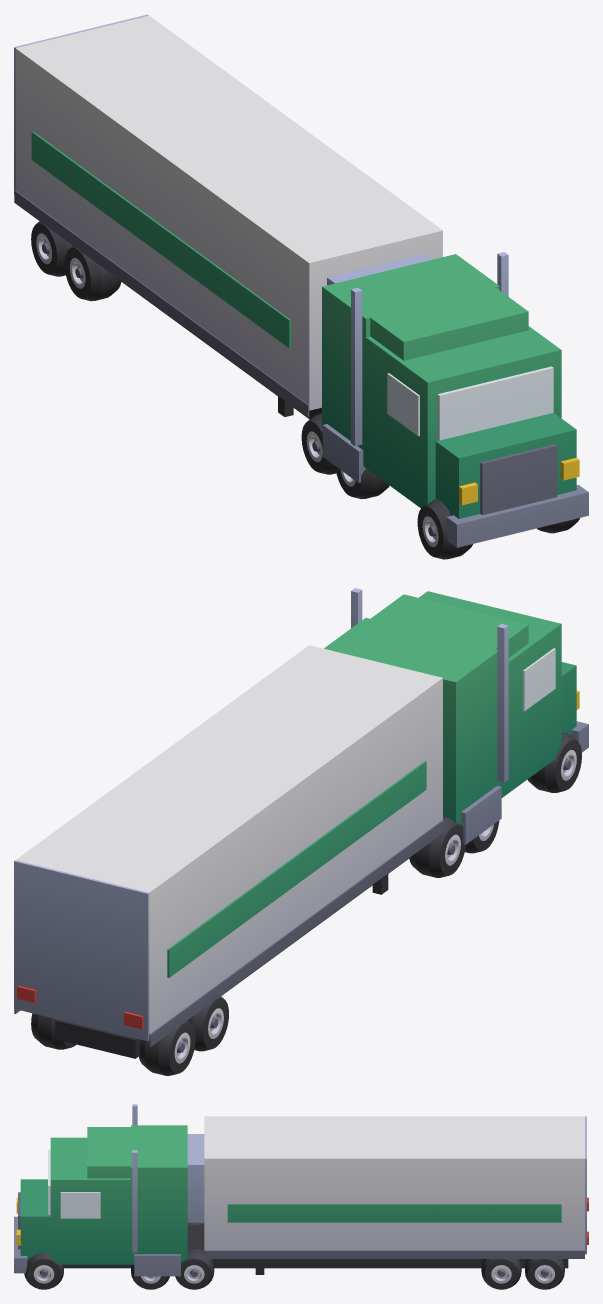
File: reefer-C.glb
3 renders of one model, top to bottom at view 1: azimuth 30°, elevation 25°; view 2: azimuth 150°, elevation 25°; view 3: azimuth 270°, elevation 25°, orthographic. The views are drawn at different scales.
Visible parts, largest first — view 1: body, wheel--3.0-l, wheel-3.85-l, wheel--3.65-l, wheel-1.6-l, wheel-2.25-l; view 2: body, wheel--3.65-l, wheel-1.6-l, wheel-3.85-l, wheel--3.0-l, wheel--3.65-r; view 3: body, wheel-1.6-r, wheel-3.85-r, wheel--3.0-r, wheel--3.65-r, wheel-2.25-r.
Part boxes in pixels (x1,y1,x2,y2): body: (14,14,588,547); wheel--3.0-l: (64,246,121,301); wheel-3.85-l: (417,499,472,559); wheel--3.65-l: (31,221,72,276); wheel-1.6-l: (301,413,336,474); wheel-2.25-l: (335,466,389,499); body: (14,588,588,1058); wheel--3.65-l: (139,1020,195,1075); wheel-1.6-l: (409,816,465,877); wheel-3.85-l: (527,732,581,792); wheel--3.0-l: (187,996,228,1051); wheel--3.65-r: (31,1013,76,1049); body: (14,1104,588,1276); wheel-1.6-r: (175,1249,214,1289); wheel-3.85-r: (24,1253,63,1289); wheel--3.0-r: (481,1258,521,1289); wheel--3.65-r: (525,1258,564,1289); wheel-2.25-r: (131,1264,169,1289).
Size of the model in its own units: 1.72 by 2.35 by 8.61.
1 material, 1 textured.
